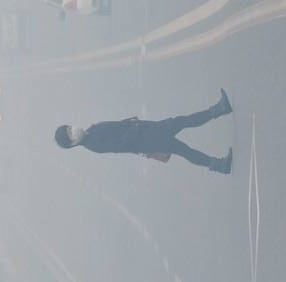person: (53, 90, 233, 174)
